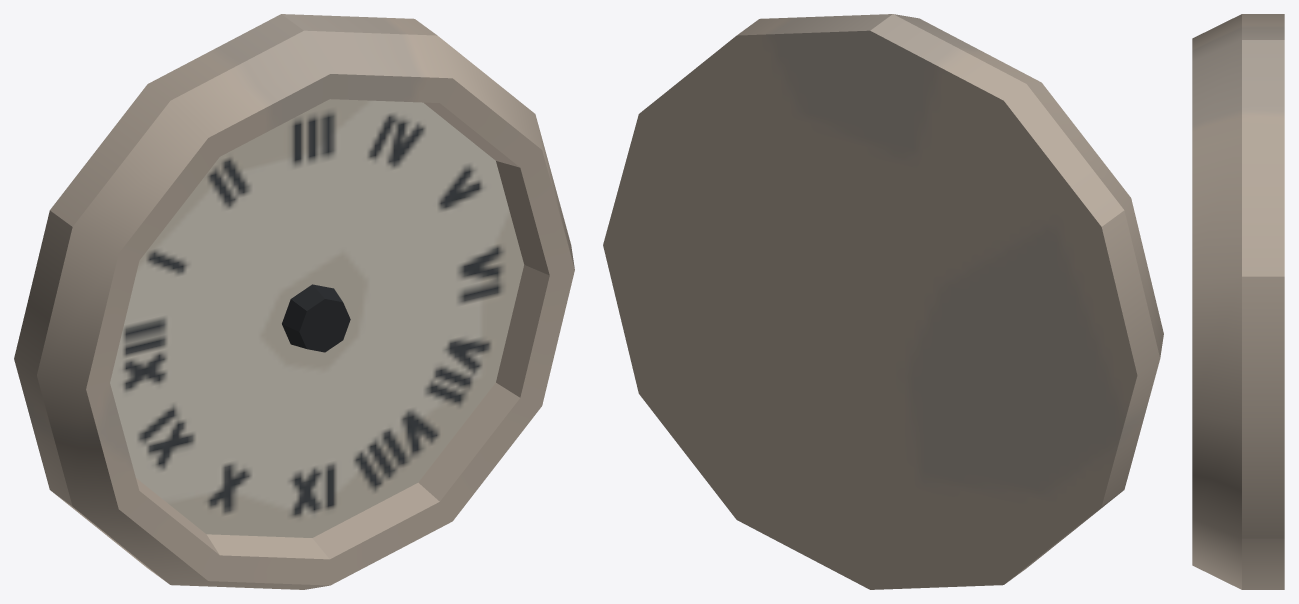
Rendered from SM_Bld_Clock_Tower_Clock_01.fbx.
3 views of the same model, side by side, from view 1: azimuth 30°, elevation 25°; view 2: azimuth 150°, elevation 25°; view 3: azimuth 270°, elevation 25° (orthographic). The views are drawn at different scales.
Visible parts, largest first — view 1: SM_Bld_Clock_Tower_Clock_01; view 2: SM_Bld_Clock_Tower_Clock_01; view 3: SM_Bld_Clock_Tower_Clock_01.
Boxes of the visible parts, bbox=[...] form: SM_Bld_Clock_Tower_Clock_01: bbox=[14, 14, 574, 589]; SM_Bld_Clock_Tower_Clock_01: bbox=[603, 14, 1163, 589]; SM_Bld_Clock_Tower_Clock_01: bbox=[1192, 14, 1284, 589].
Size of the model in its own units: 98.3 by 98.3 by 15.7.
